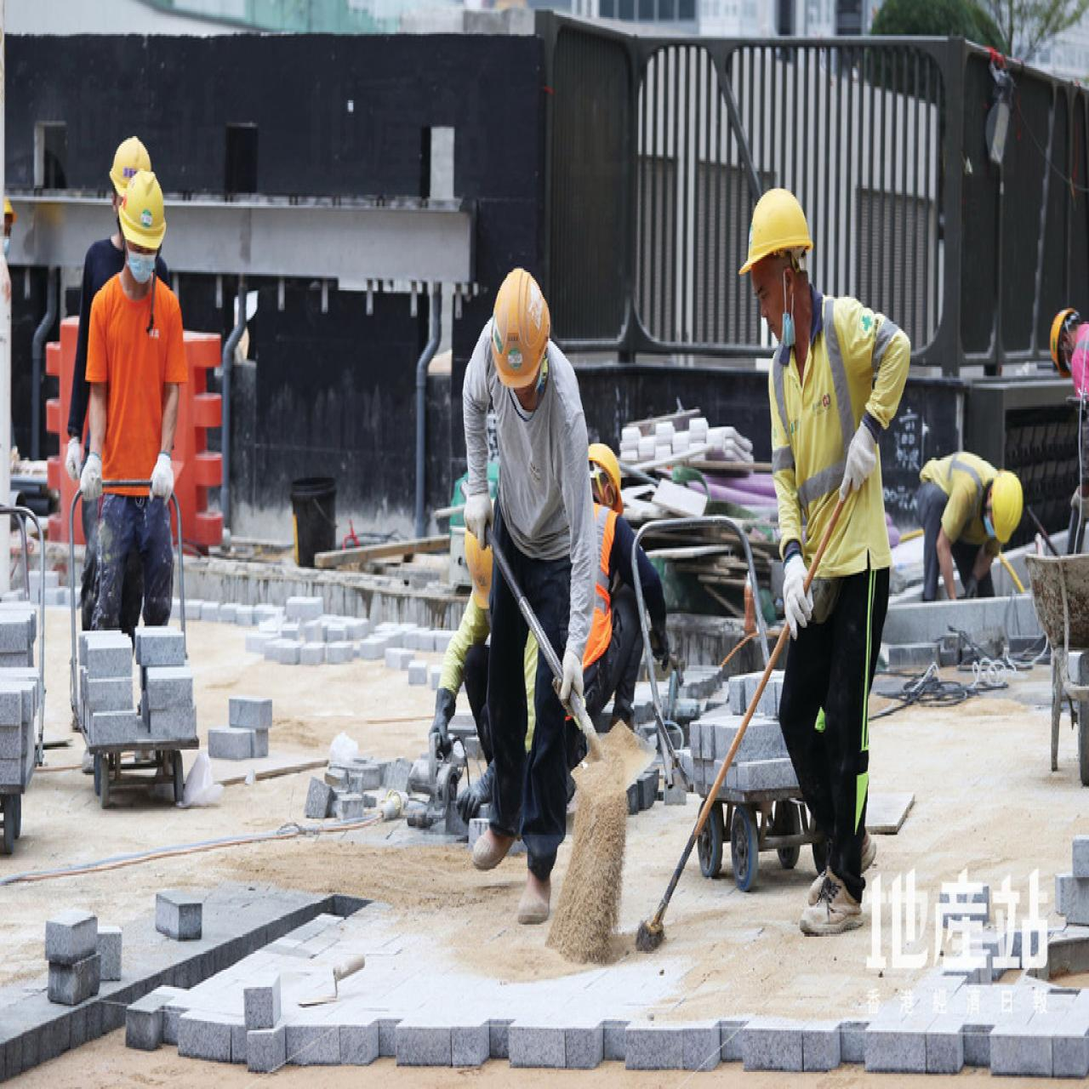NO_Safety_Vest: (765, 294, 900, 605), (473, 347, 588, 580), (94, 280, 181, 506), (921, 447, 989, 540)
Person: (730, 187, 917, 946), (445, 244, 606, 898), (75, 165, 192, 670), (75, 122, 171, 625), (574, 425, 686, 744), (913, 445, 1026, 610), (1042, 301, 1089, 553)
Safety_Vest: (584, 494, 615, 678)
